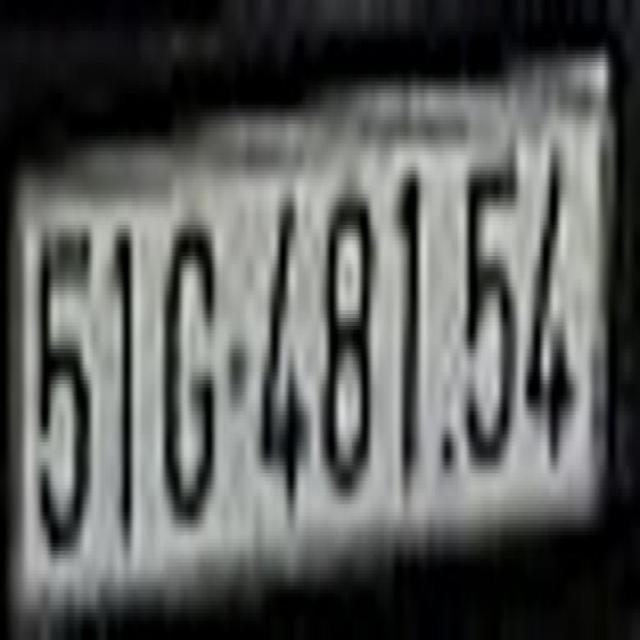1: (396, 171, 428, 516), (108, 210, 136, 554)
4: (523, 140, 579, 484), (254, 194, 310, 531)
5: (33, 217, 94, 559), (461, 140, 520, 473)
8: (322, 182, 379, 508)
G: (156, 206, 218, 558)
